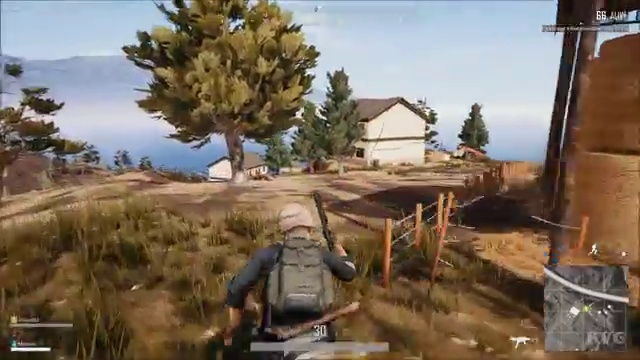Player: (237, 184, 363, 332)
